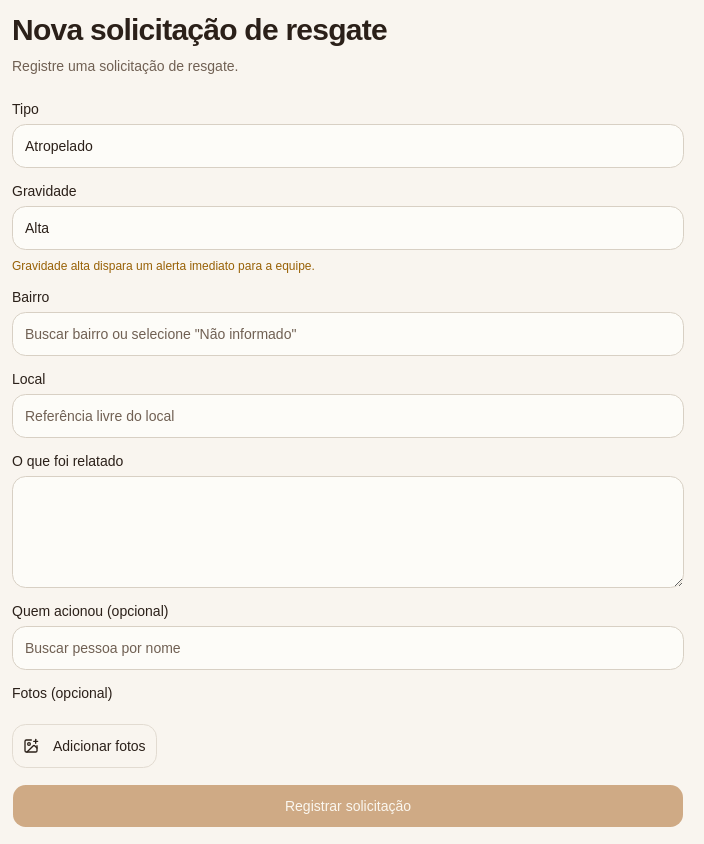
Scenario: RescueNewPage › ajusta a gravidade padrão ao trocar o tipo
The image size is (704, 844).
Select "Filhotes abandonados" in the dropdown labelled "Tipo" at point(348, 146), box [12, 124, 684, 168]
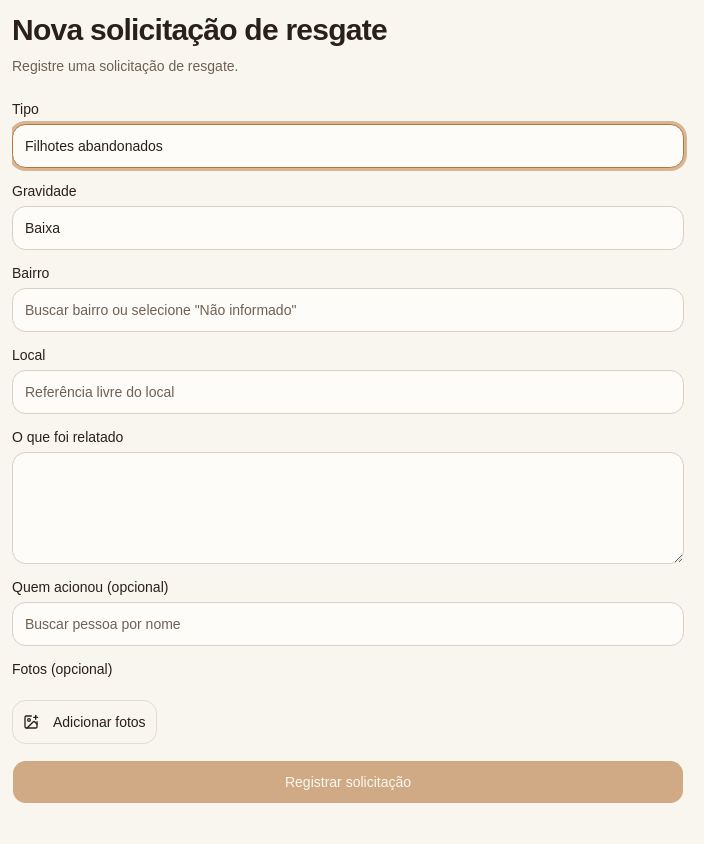
Expected: the dropdown labelled "Gravidade" shows "Baixa", [12, 206, 684, 250]
